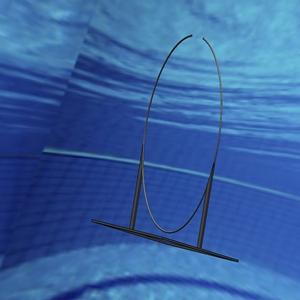circle: (91, 32, 240, 261)
